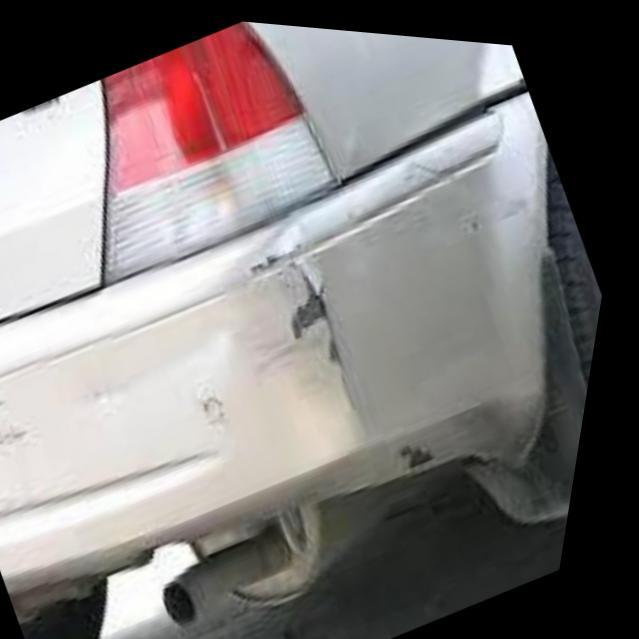rub: (220, 60, 560, 468), (92, 324, 254, 436), (0, 380, 49, 461)
